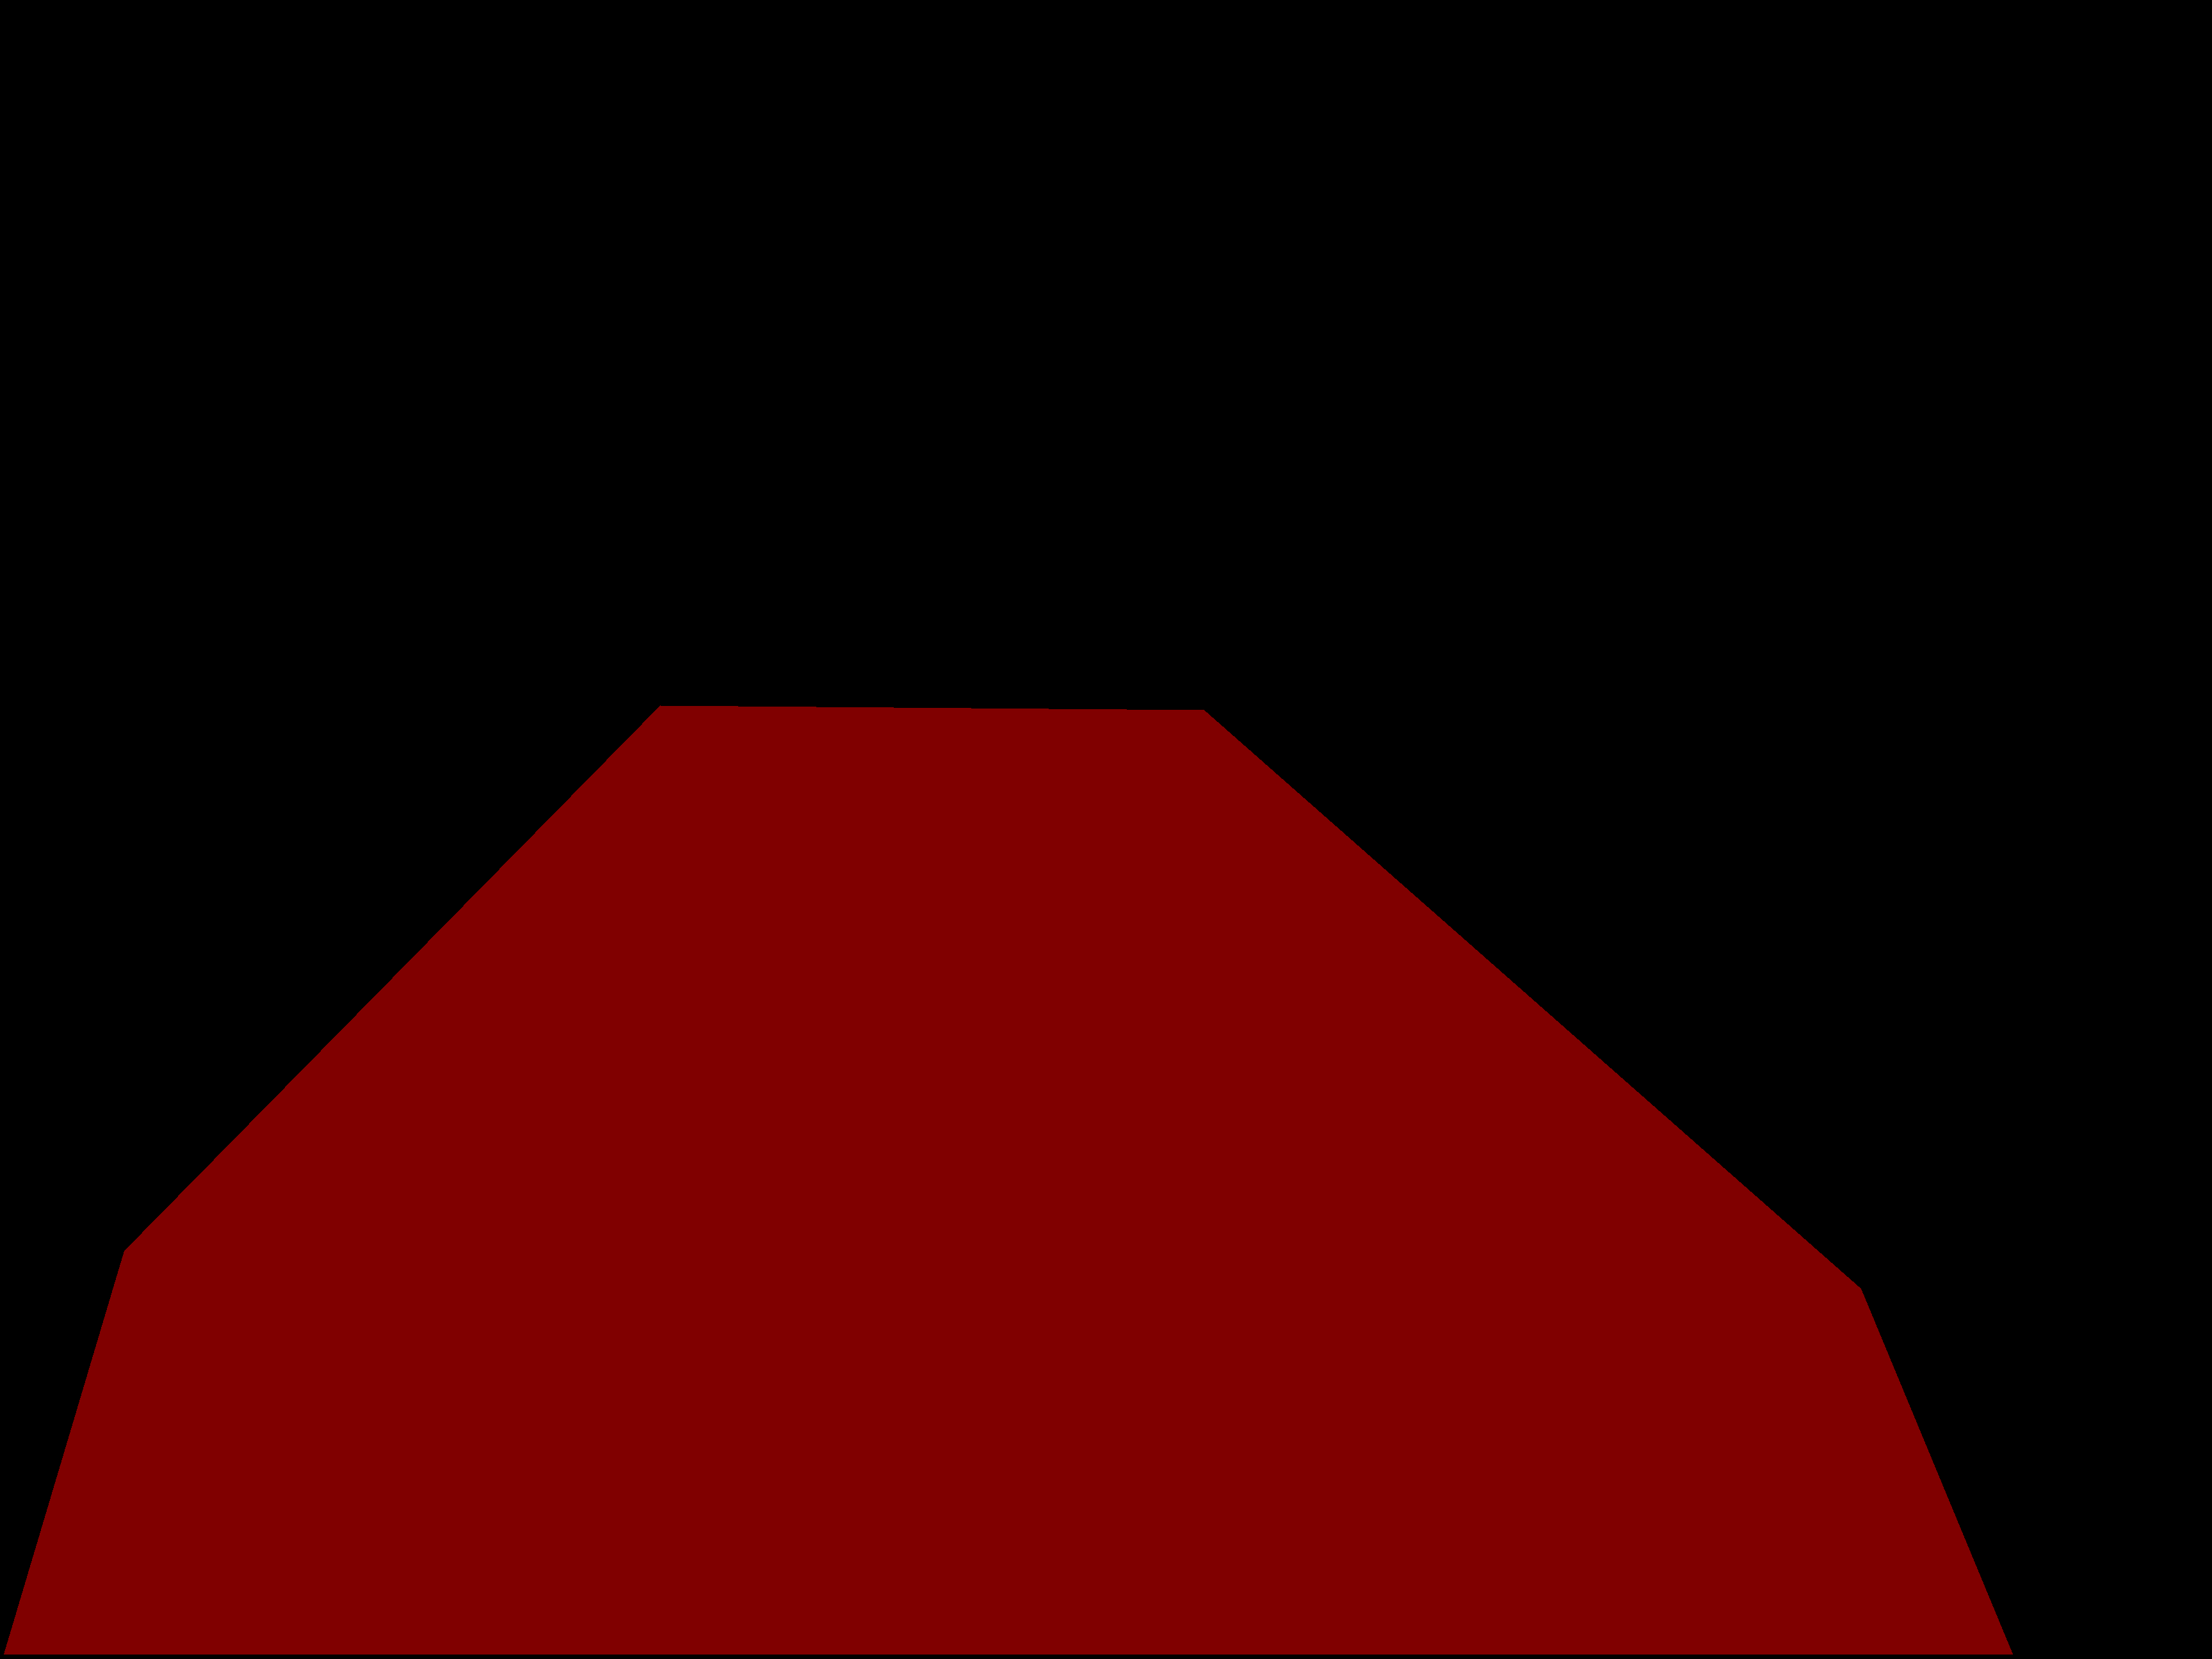stair: (3, 706, 2012, 1654)
